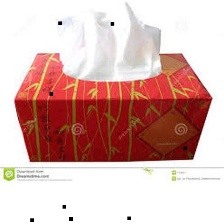book: (9, 46, 217, 167)
tissue: (48, 0, 167, 86)
